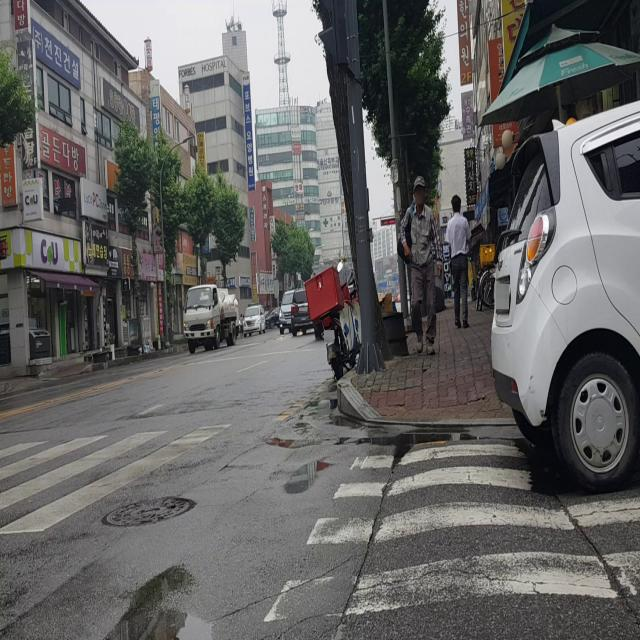횡단보도: (262, 439, 640, 628), (0, 422, 235, 534)
